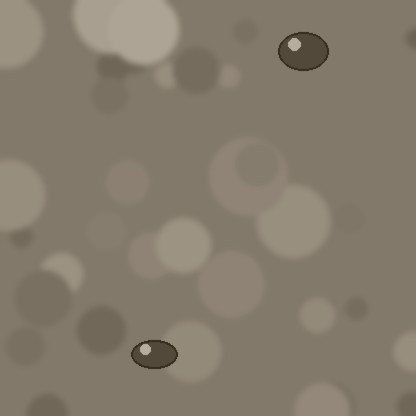gota: (278, 33, 328, 73), (131, 341, 177, 371)
